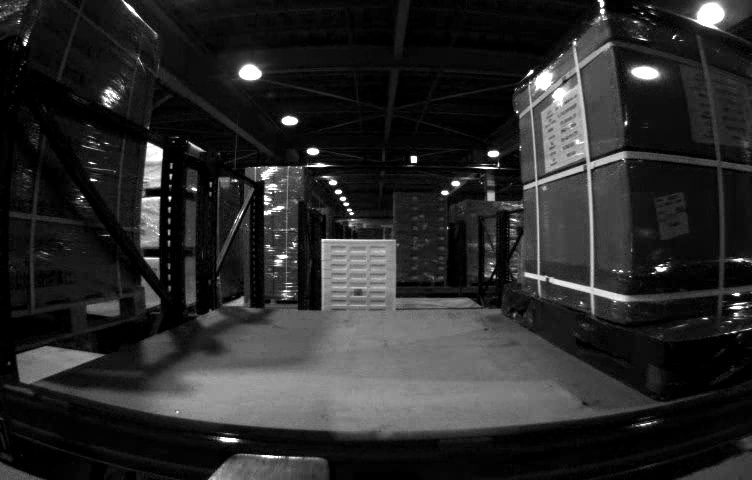True Barcode: (653, 190, 691, 241)
